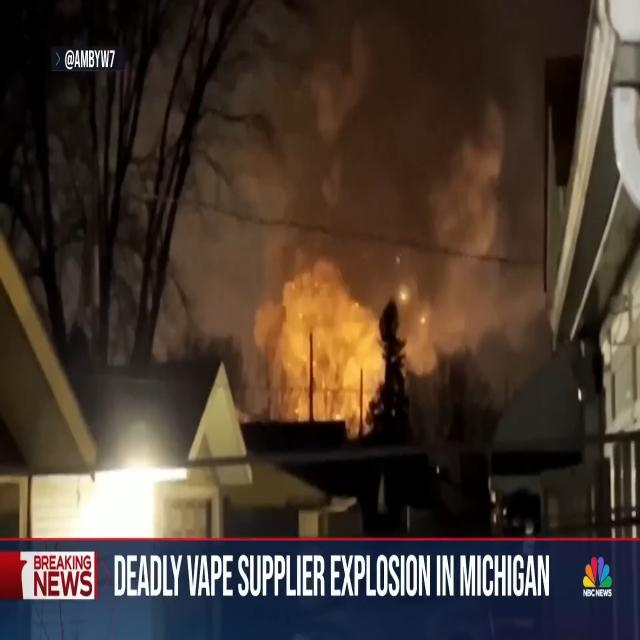fire: (266, 262, 421, 436)
